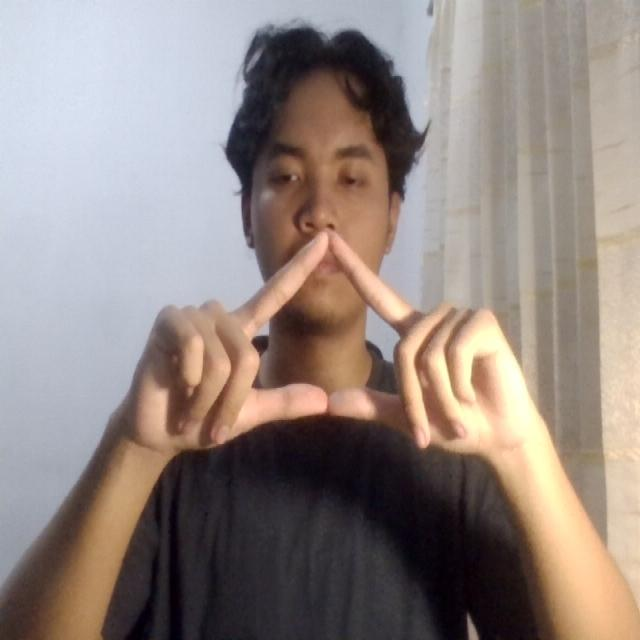A: (103, 214, 556, 486)
